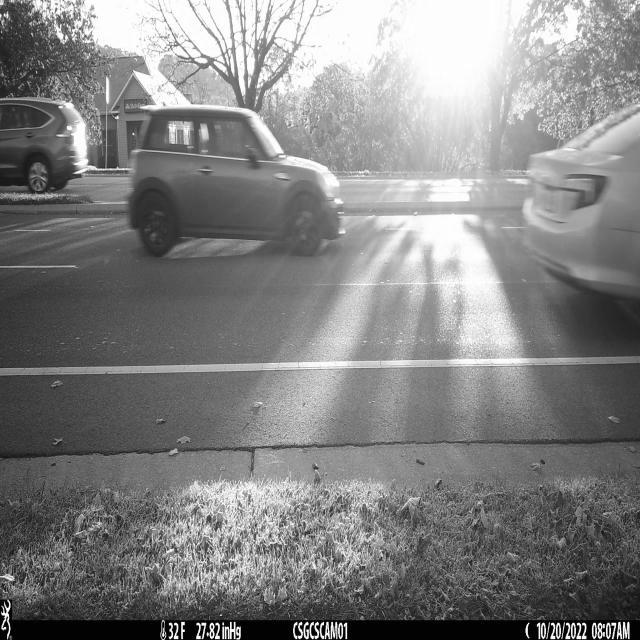Hatchback: (127, 105, 347, 259)
